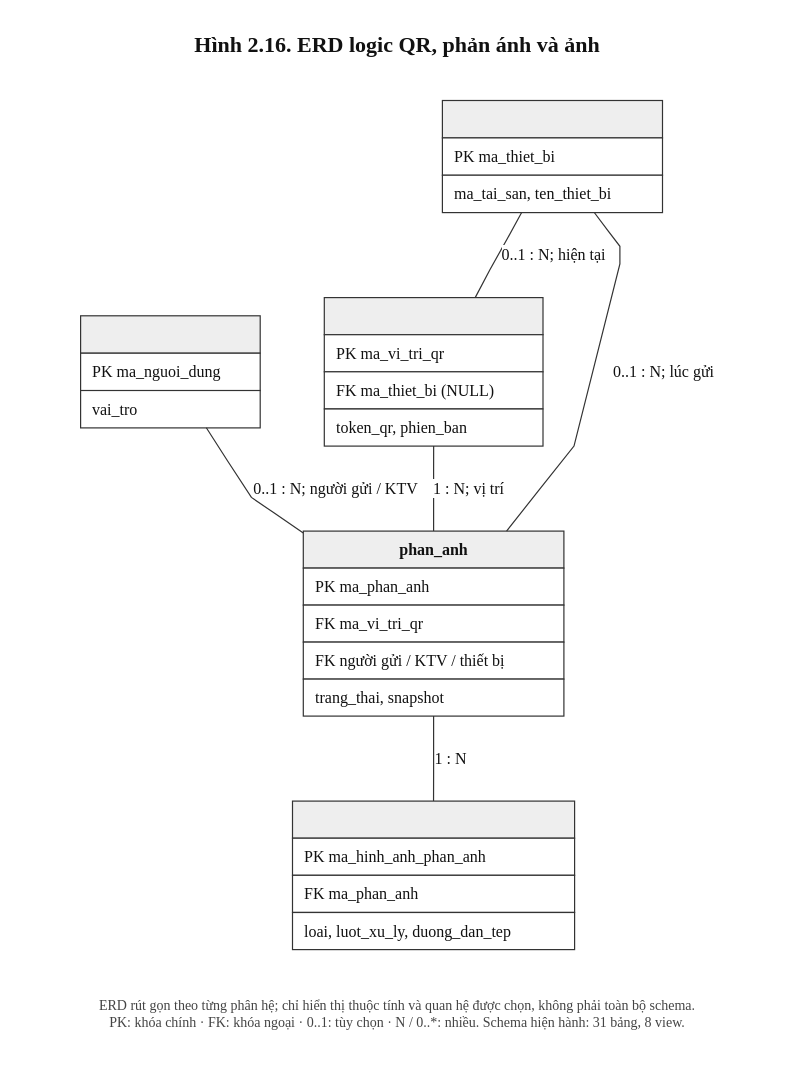
The diagram is 794 pixels wide and 1072 high, and some of its shapes have lost their labels. The centre of each missing label's shape, as x and y in pixels:
"hinh_anh_phan_anh" belongs at (433,819).
"nguoi_dung" belongs at (170,334).
"thiet_bi" belongs at (552,118).
"vi_tri_qr" belongs at (433,315).
